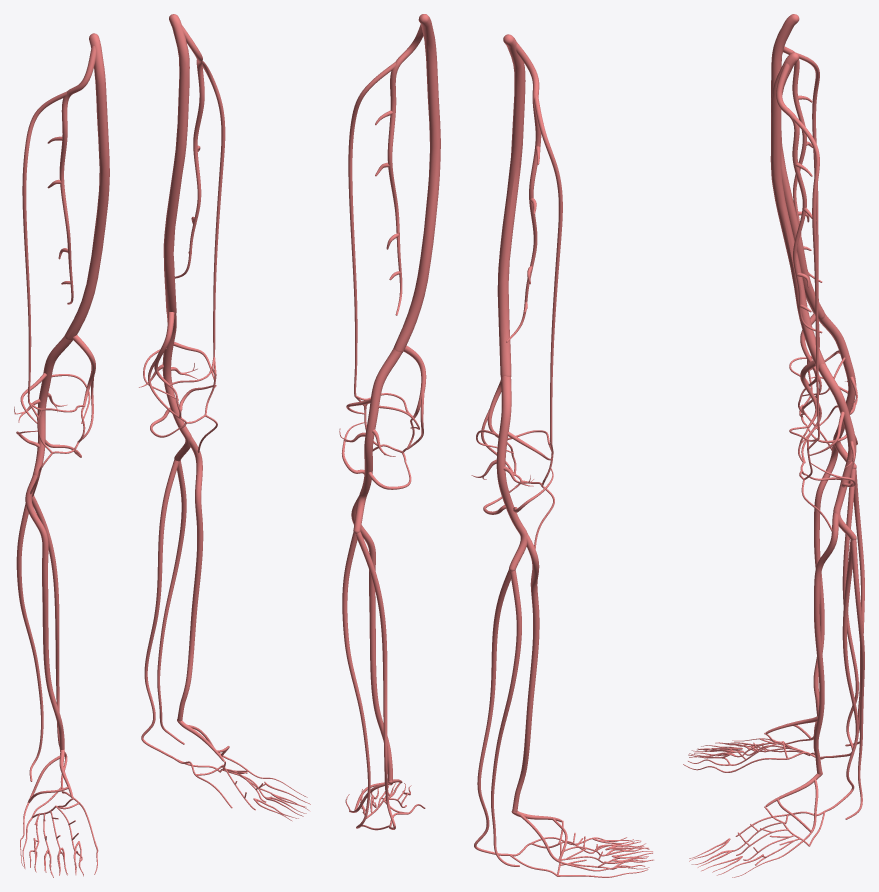
Rendered from arteres-membre-inf.hi.glb.
The picture shows the model from 3 angles, left to right: view 1: azimuth 30°, elevation 25°; view 2: azimuth 150°, elevation 25°; view 3: azimuth 270°, elevation 25°; orthographic projection. The views are drawn at different scales.
Parts seen in each view (by area): view 1: FJ2143, FJ2074, FJ2065, FJ2130, FJ2087, FJ2203, FJ2057, FJ2093, FJ2094, FJ2197, FJ2170, FJ2172 (+6 smaller); view 2: FJ2074, FJ2143, FJ2130, FJ2170, FJ2086, FJ2065, FJ2087, FJ2172, FJ2057, FJ2094, FJ2197, FJ2063 (+4 smaller); view 3: FJ2074, FJ2143, FJ2065, FJ2086, FJ2094, FJ2130, FJ2063, FJ2093, FJ2087, FJ2172, FJ2170, FJ2197 (+9 smaller).
Part boxes in pixels (x1,y1,x2,y2): FJ2143: (65,33,109,340); FJ2074: (163,14,189,315); FJ2065: (177,437,203,721); FJ2130: (25,475,64,749); FJ2087: (141,460,179,759); FJ2203: (59,46,95,304); FJ2057: (22,91,66,402); FJ2093: (157,460,186,744); FJ2094: (175,25,204,278); FJ2197: (16,503,43,781); FJ2170: (32,335,72,496); FJ2172: (32,495,67,785); FJ2074: (394,14,440,352); FJ2143: (497,34,525,376); FJ2130: (512,534,539,812); FJ2170: (496,376,527,571); FJ2086: (353,347,401,533); FJ2065: (351,496,392,780); FJ2087: (356,531,395,829); FJ2172: (474,569,510,855); FJ2057: (534,96,562,444); FJ2094: (387,24,423,315); FJ2197: (491,570,521,866); FJ2063: (348,62,395,396); FJ2074: (770,52,825,366); FJ2143: (771,14,825,319); FJ2065: (813,512,838,774); FJ2086: (818,363,856,540); FJ2094: (776,63,822,333); FJ2130: (813,439,838,716); FJ2063: (793,116,819,439); FJ2093: (845,540,864,819); FJ2087: (824,540,858,811); FJ2172: (824,468,858,757); FJ2170: (818,314,856,468); FJ2197: (845,469,864,746).
Bounding box in the file's own units: 0.3409 × 0.9034 × 0.1912.
